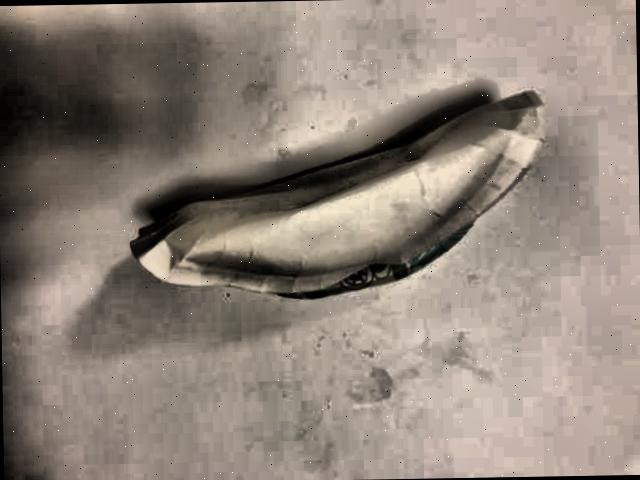Paper: (113, 70, 566, 328)
